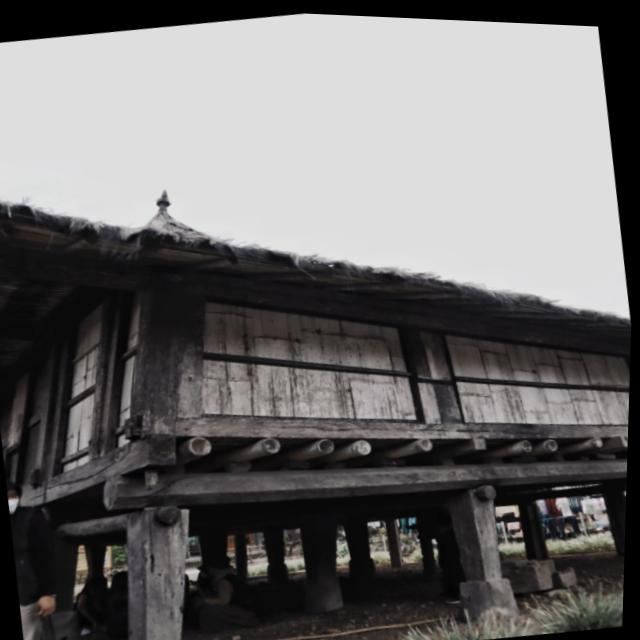Atap: (0, 189, 631, 370)
